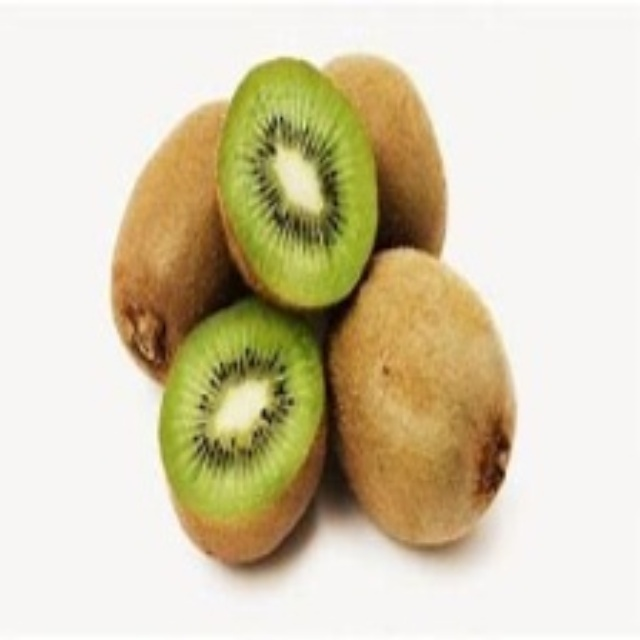kiwi: (299, 240, 543, 563), (149, 302, 329, 583), (94, 91, 257, 385), (222, 54, 383, 311), (319, 43, 462, 267)
